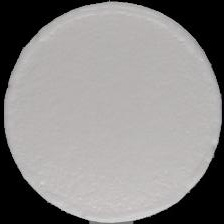0093-2055: (0, 0, 224, 224)
